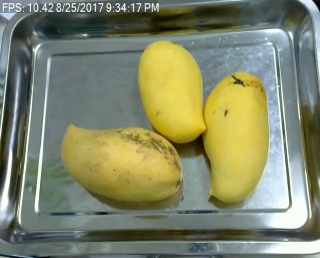Mango: (59, 123, 182, 201), (202, 73, 269, 202), (138, 40, 205, 143)
